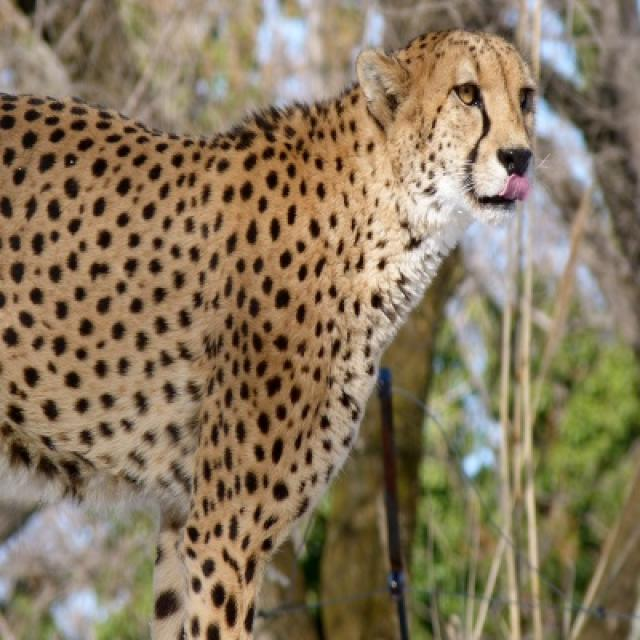Cheetah: (0, 30, 536, 638)
